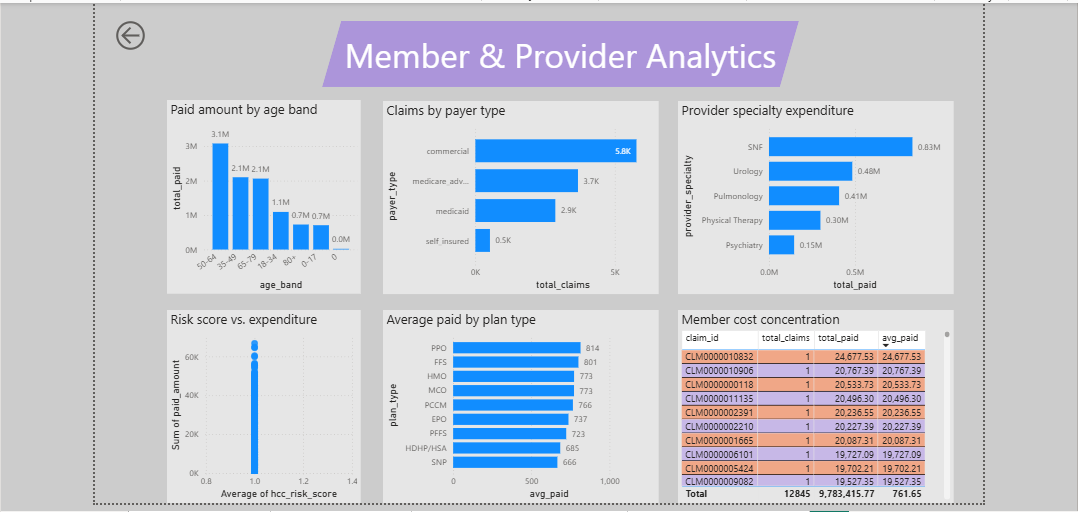

The dashboard page shown, as its layout file describes it:
{"tool":"powerbi","page":{"name":"Member & Provider Analytics","canvas":[1280,720],"ordinal":2},"visuals":[{"type":"clusteredColumnChart","title":"Paid amount by age band","fields":{"Category":["members.age_band"],"Y":["claims.total_paid"]},"box":[103.7,139.7,279.4,279.4],"z":0},{"type":"barChart","title":"Claims by payer type","fields":{"Category":["members.payer_type"],"Y":["claims.total_claims"]},"box":[414.7,141.1,397.4,277.9],"z":1000},{"type":"barChart","title":"Average paid by plan type","fields":{"Category":["members.plan_type"],"Y":["claims.avg_paid"]},"box":[414.7,442.1,397.4,277.9],"z":2000},{"type":"barChart","title":"Provider specialty expenditure","fields":{"Category":["claims.provider_specialty"],"Y":["claims.total_paid"]},"box":[839.5,141.1,397.4,277.9],"z":3000},{"type":"tableEx","title":"Member cost concentration","fields":{"Values":["claims.claim_id","claims.total_claims","claims.total_paid","claims.avg_paid"]},"box":[839.5,442.1,397.4,277.9],"z":4000},{"type":"scatterChart","title":"Risk score vs. expenditure","fields":{"Y":["Sum(claims.paid_amount)"],"Category":["claims.member_id"],"X":["Avg(members.hcc_risk_score)"]},"box":[103.7,442.1,279.4,277.9],"z":5000},{"type":"shape","box":[326.9,25.9,686.9,95],"z":6000},{"type":"actionButton","box":[24.5,20.2,93.6,53.3],"z":7000}]}

Visuals, with their boxes on the page's 1280x720 design canvas (x1, y1, x2, y2). These are canvas units, not pixel positions in the 1078x512 screenshot, which may show the page scaled, cropped or inside an application window:
"Paid amount by age band" clusteredColumnChart: (x1=104, y1=140, x2=383, y2=419)
"Claims by payer type" barChart: (x1=415, y1=141, x2=812, y2=419)
"Average paid by plan type" barChart: (x1=415, y1=442, x2=812, y2=720)
"Provider specialty expenditure" barChart: (x1=840, y1=141, x2=1237, y2=419)
"Member cost concentration" tableEx: (x1=840, y1=442, x2=1237, y2=720)
"Risk score vs. expenditure" scatterChart: (x1=104, y1=442, x2=383, y2=720)
shape: (x1=327, y1=26, x2=1014, y2=121)
actionButton: (x1=24, y1=20, x2=118, y2=74)
